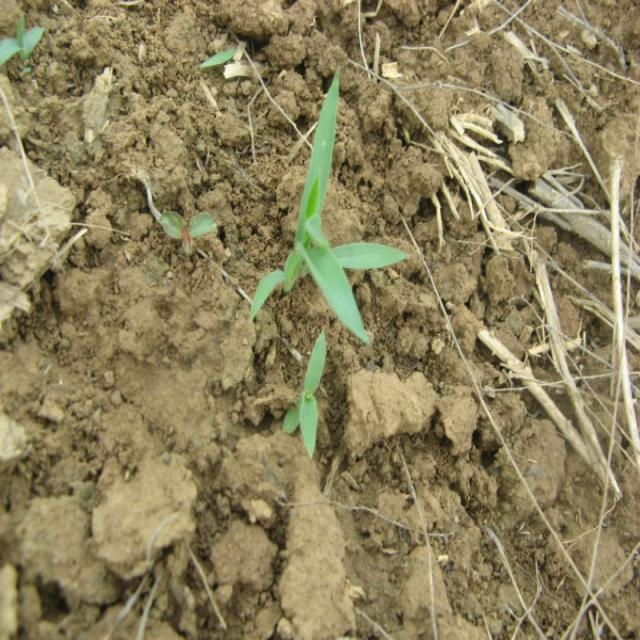bg: (250, 68, 408, 343)
